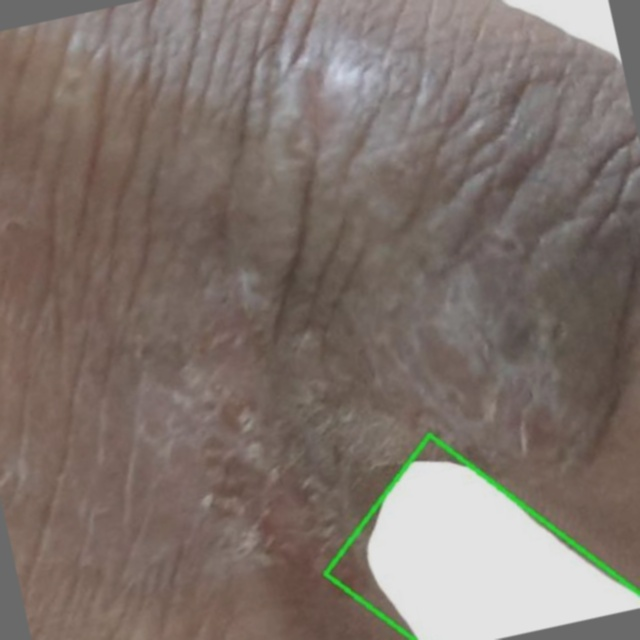Eczema: (325, 435, 639, 639)
